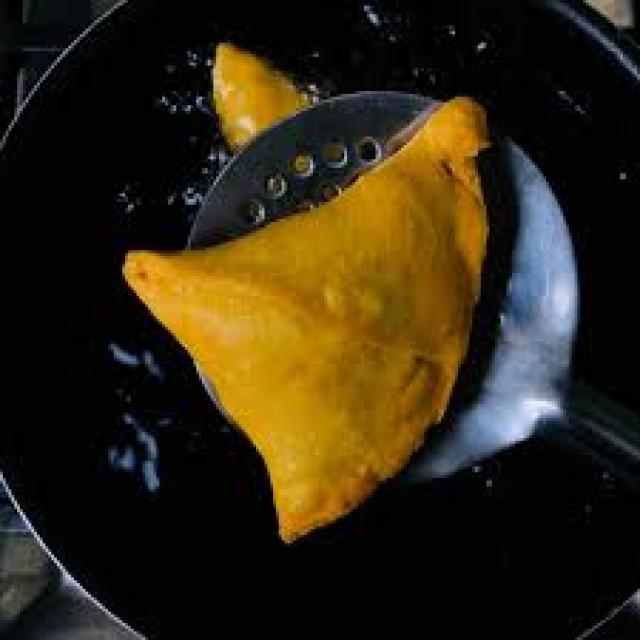SAMOSA: (121, 94, 494, 549)
